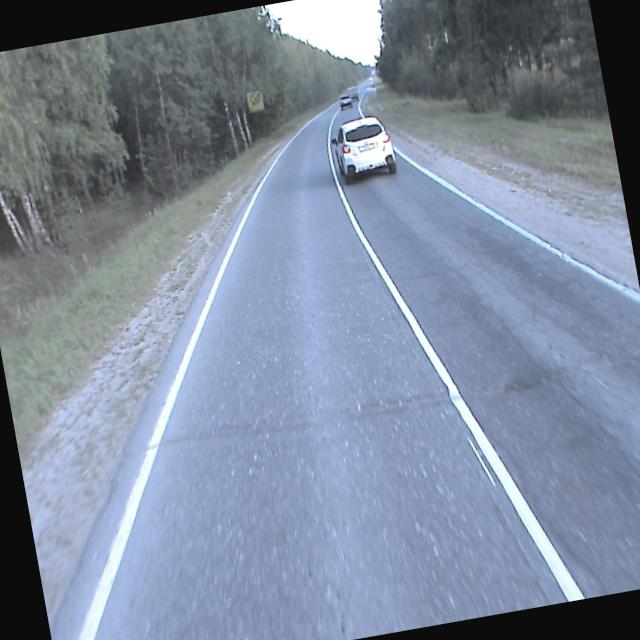road: (51, 100, 640, 640)
